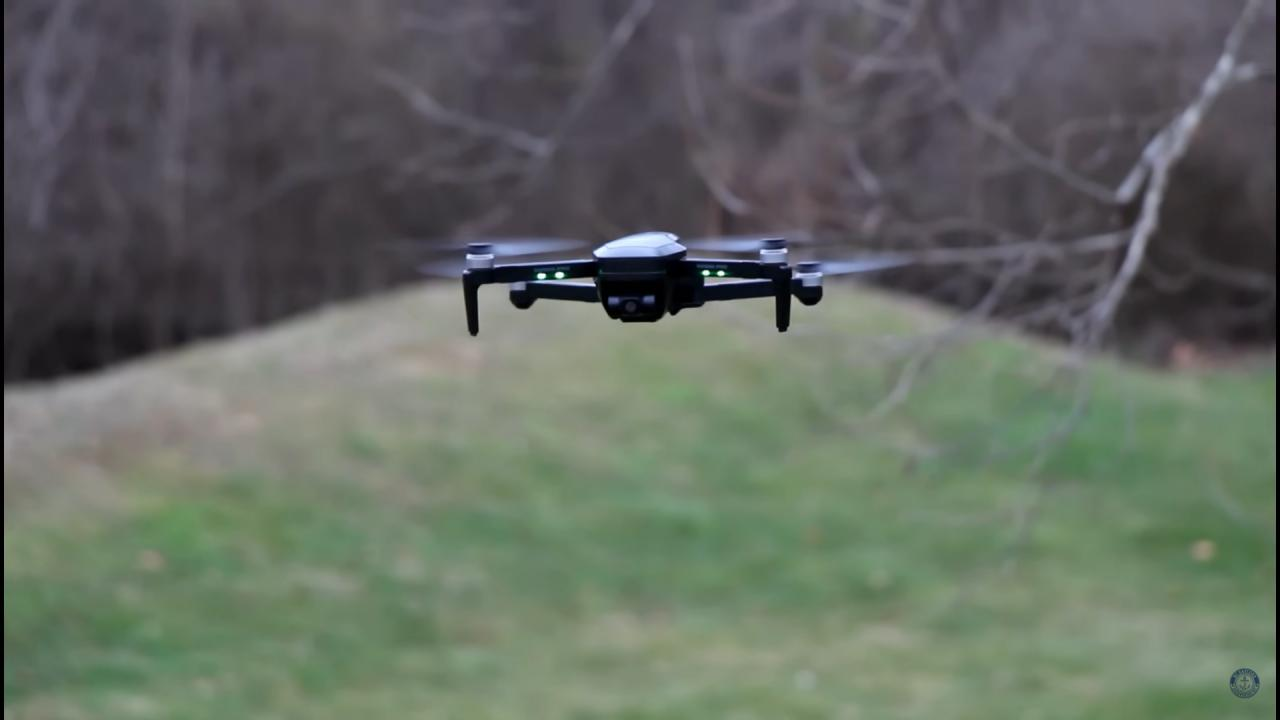Drone: (345, 219, 929, 346)
